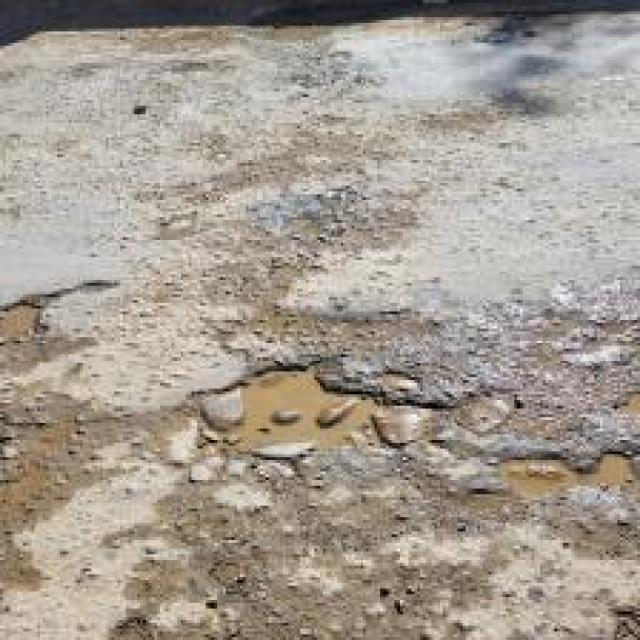BACHE: (182, 360, 386, 458), (499, 452, 631, 498), (0, 302, 44, 344)
